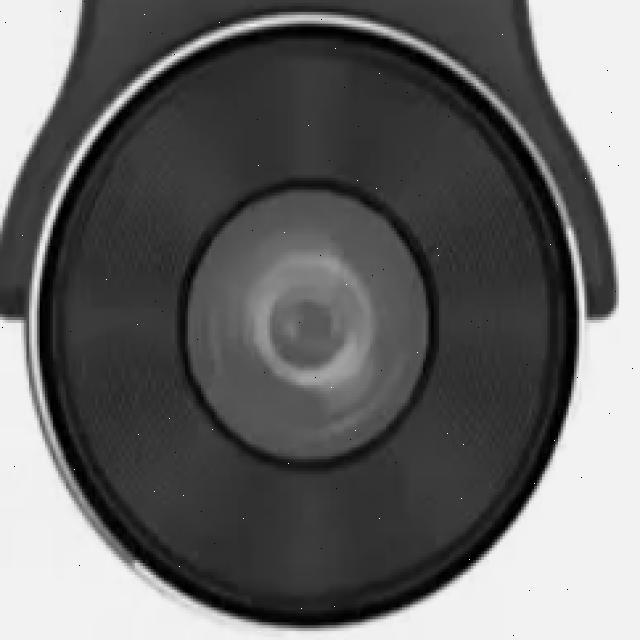camera: (23, 41, 624, 633)
